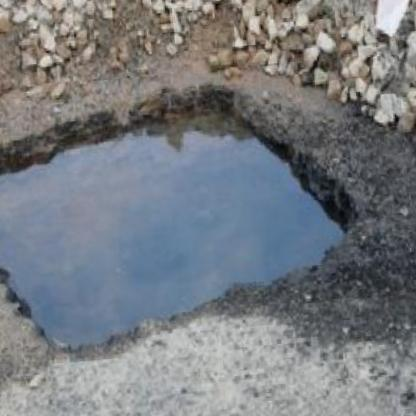pothole: (0, 63, 371, 363)
